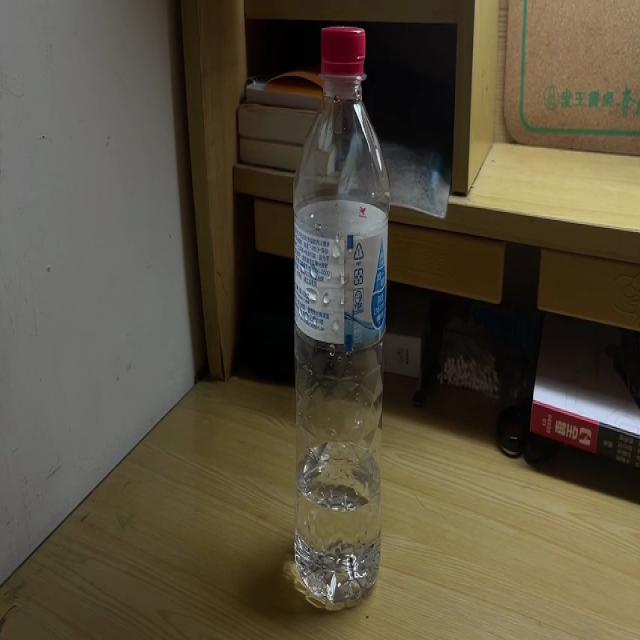Water: (292, 23, 390, 611)
